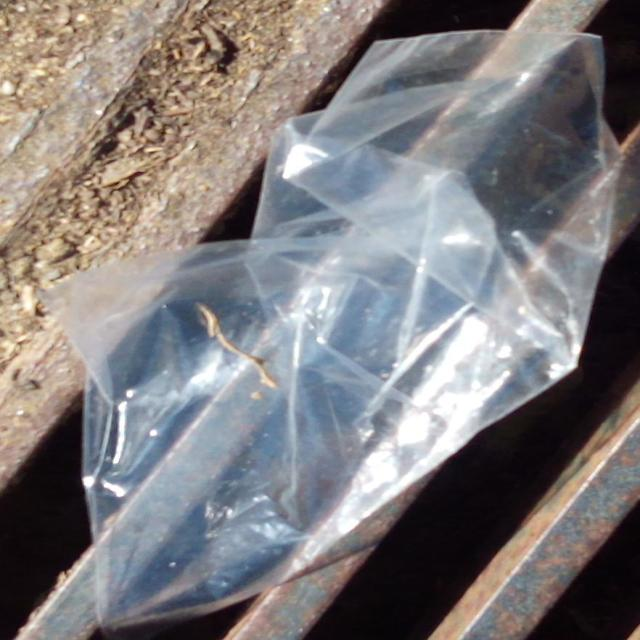litter: (39, 31, 628, 636)
